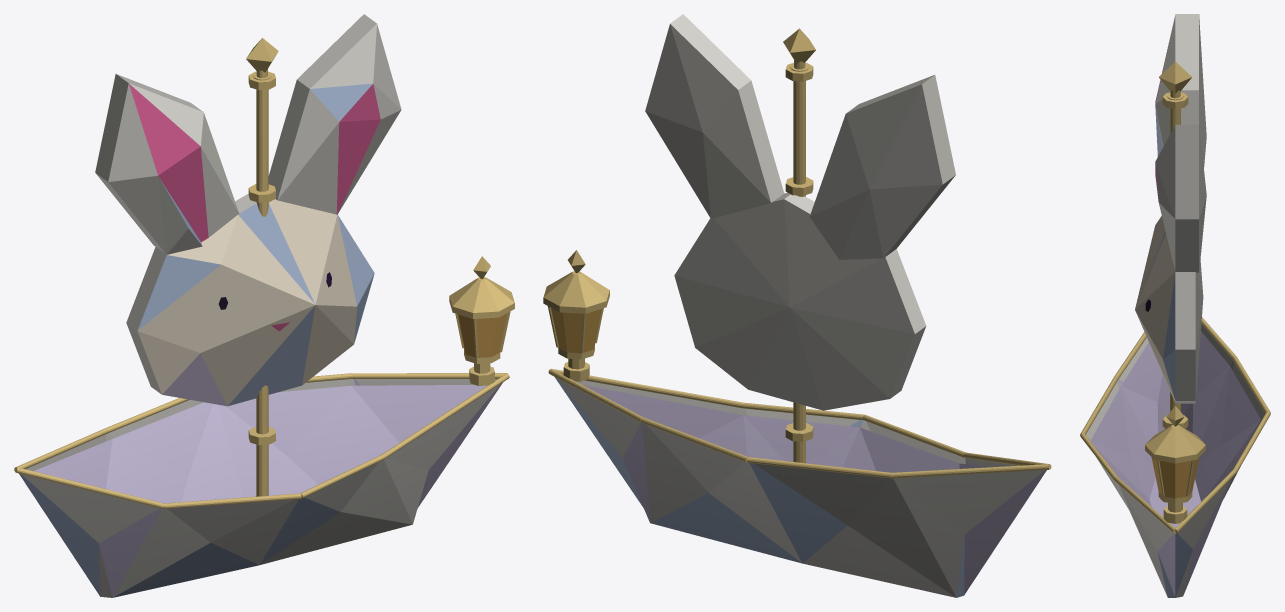
The model's file is paper-boat.glb.
3 renders of one model, left to right at view 1: azimuth 30°, elevation 25°; view 2: azimuth 150°, elevation 25°; view 3: azimuth 270°, elevation 25°, orthographic. The views are drawn at different scales.
Parts seen in each view (by area): view 1: bob0_mesh; view 2: bob0_mesh; view 3: bob0_mesh.
Part boxes in pixels (x1=…): bob0_mesh: x1=14, y1=14, x2=514, y2=597; bob0_mesh: x1=543, y1=14, x2=1051, y2=597; bob0_mesh: x1=1080, y1=14, x2=1270, y2=597.
Bounding box in the file's own units: 3 × 3 × 1.1.
